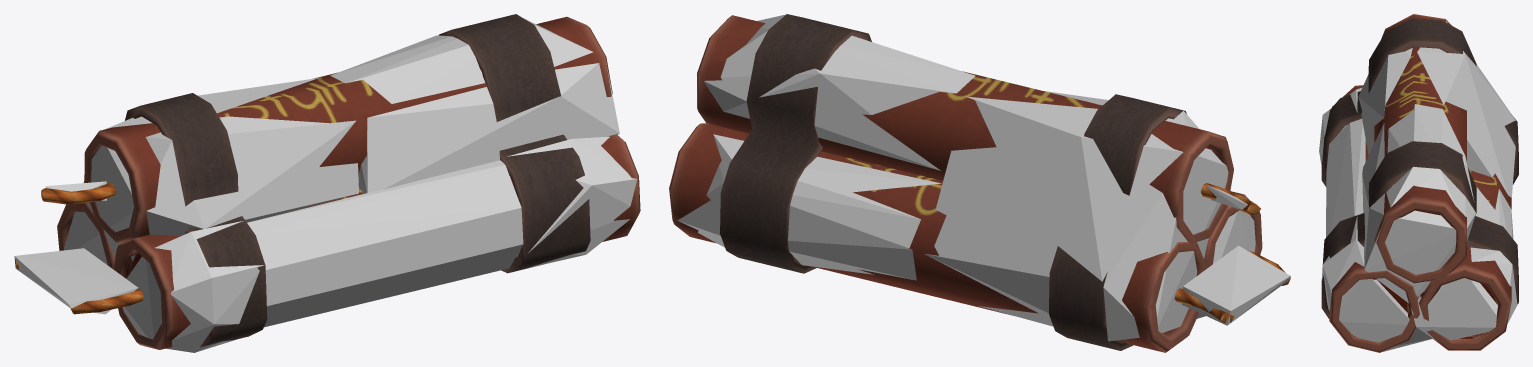
Rendered from SM_Dynamite_b.fbx.
3 renders of one model, left to right at view 1: azimuth 30°, elevation 25°; view 2: azimuth 150°, elevation 25°; view 3: azimuth 270°, elevation 25°, orthographic. The views are drawn at different scales.
Parts seen in each view (by area): view 1: SM_Dynamite_b_ConvexHulls, SM_Dynamite_b; view 2: SM_Dynamite_b_ConvexHulls, SM_Dynamite_b; view 3: SM_Dynamite_b_ConvexHulls, SM_Dynamite_b.
Boxes of the visible parts, bbox=[...] form: SM_Dynamite_b_ConvexHulls: bbox=[14, 18, 637, 352]; SM_Dynamite_b: bbox=[15, 14, 640, 349]; SM_Dynamite_b_ConvexHulls: bbox=[677, 14, 1290, 341]; SM_Dynamite_b: bbox=[669, 14, 1290, 352]; SM_Dynamite_b_ConvexHulls: bbox=[1319, 21, 1517, 351]; SM_Dynamite_b: bbox=[1321, 14, 1518, 352].
Bounding box in the file's own units: 58.42 × 23.19 × 21.72.
